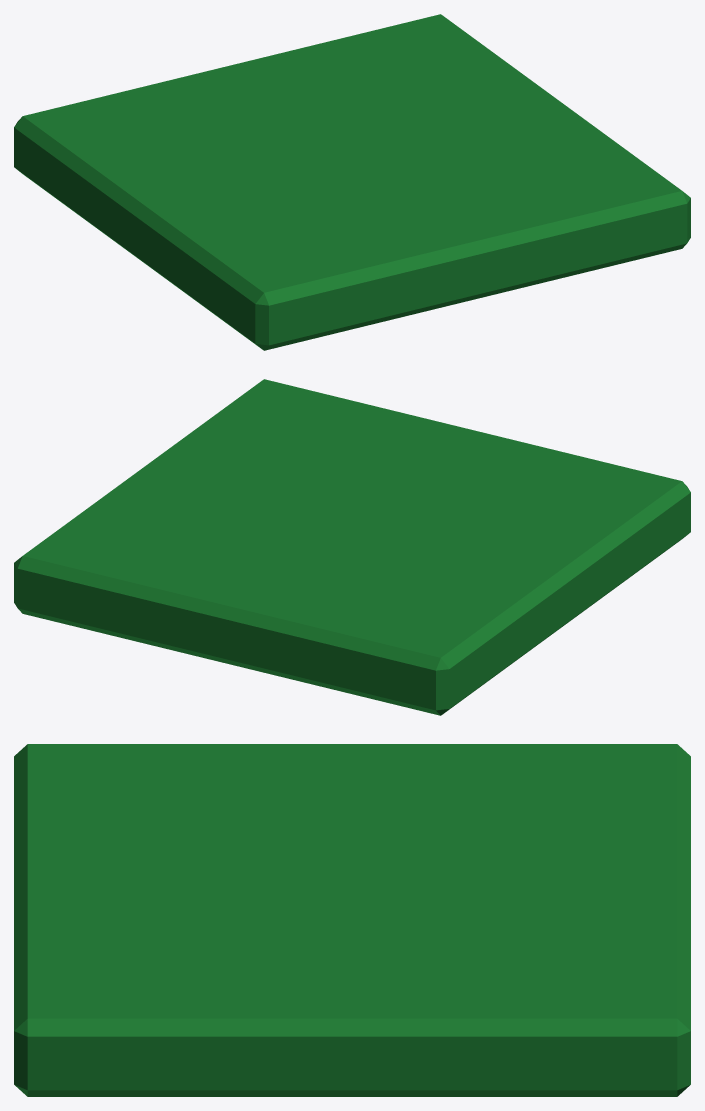
The model's file is platform.fbx.
3 views of the same model, one above another, from view 1: azimuth 30°, elevation 25°; view 2: azimuth 150°, elevation 25°; view 3: azimuth 270°, elevation 25° (orthographic). The views are drawn at different scales.
Parts seen in each view (by area): view 1: zemin.003; view 2: zemin.003; view 3: zemin.003.
Boxes of the visible parts, left/top/right/bottom form: zemin.003: left=14, top=14, right=690, bottom=350; zemin.003: left=14, top=379, right=690, bottom=715; zemin.003: left=14, top=744, right=690, bottom=1096.
Size of the model in its own units: 200 by 25.45 by 200.
